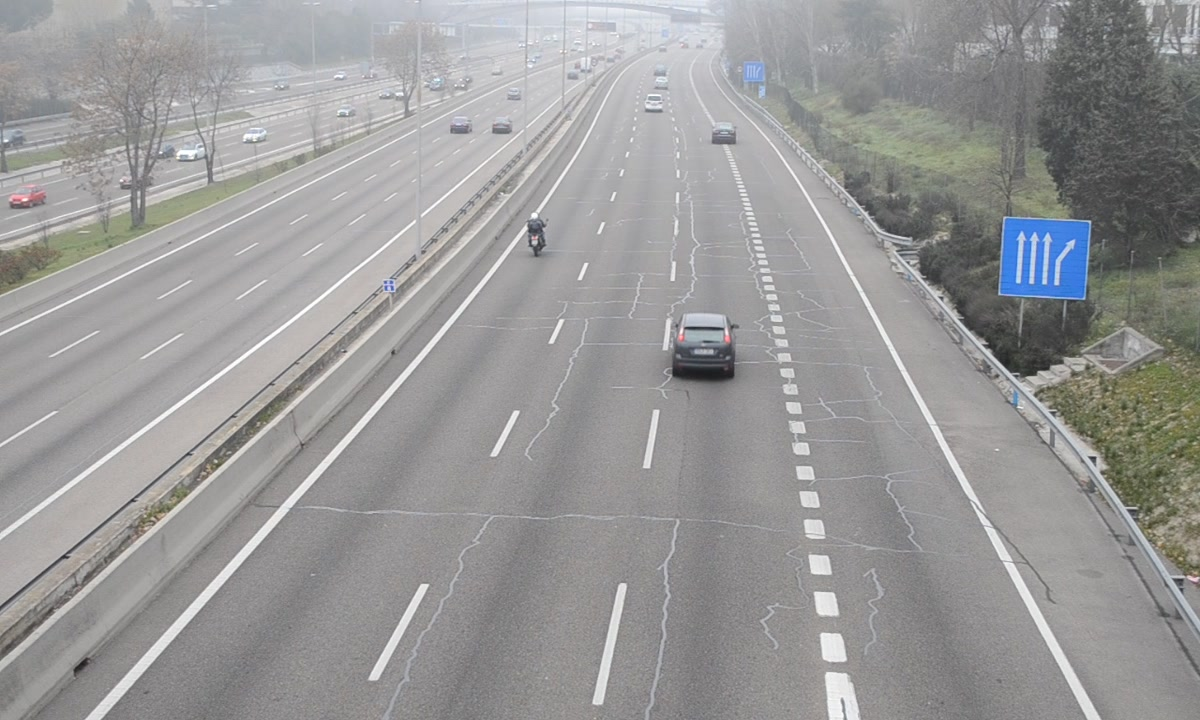car: (670, 313, 735, 379), (712, 124, 735, 145), (645, 94, 664, 114)
motorcycle: (524, 211, 548, 259)
